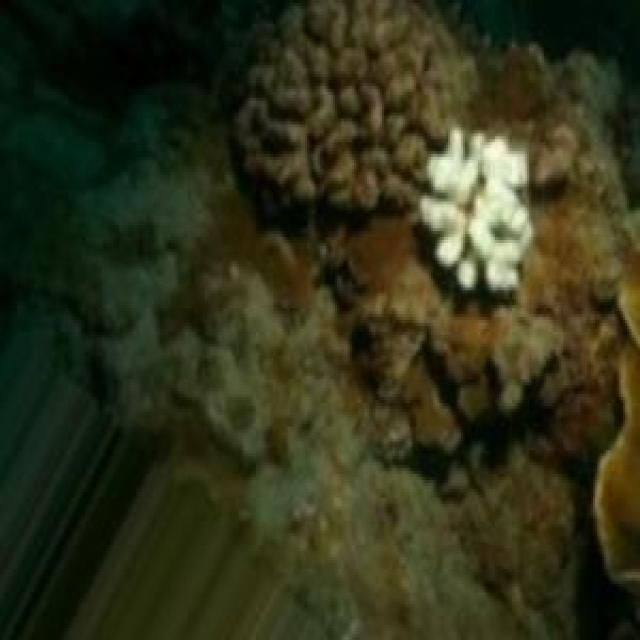Bleached: (419, 128, 532, 288)
Healthy: (234, 1, 447, 232)
